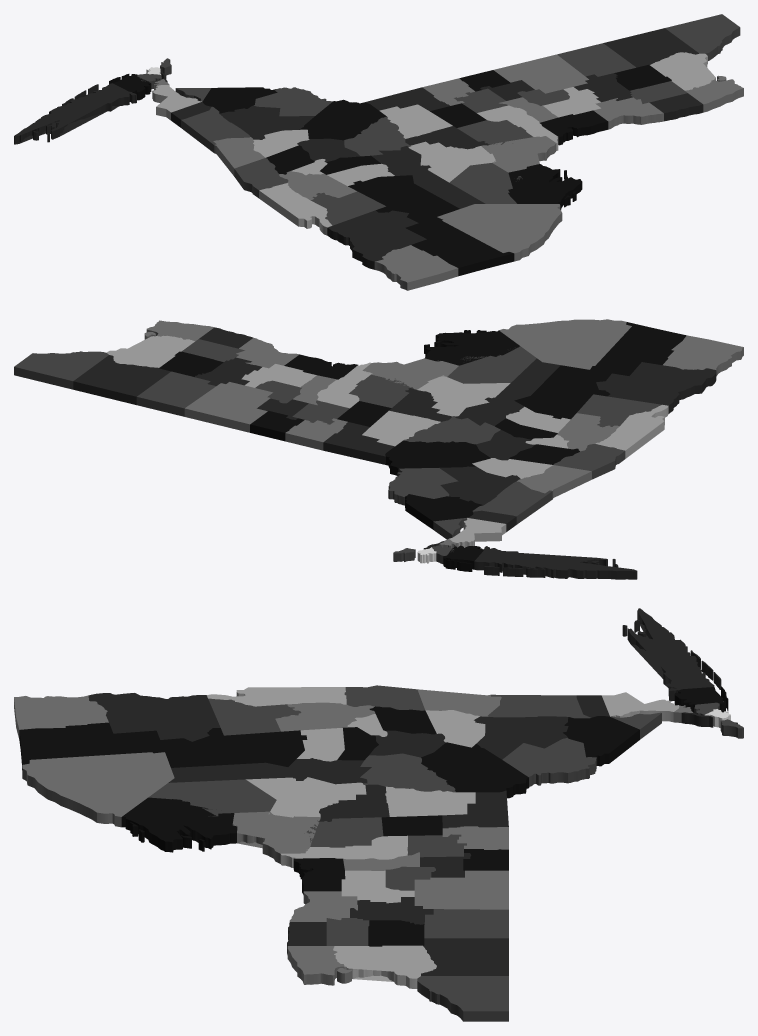
File: New_York_Counties_3D.fbx
3 views of the same model, one above another, from view 1: azimuth 30°, elevation 25°; view 2: azimuth 150°, elevation 25°; view 3: azimuth 270°, elevation 25° (orthographic). The views are drawn at different scales.
Parts seen in each view (by area): view 1: NY_St_Lawrence_County_3D, NY_Essex_County_3D, NY_Franklin_County_3D, NY_Suffolk_County_3D, NY_Hamilton_County_3D, NY_Clinton_County_3D, NY_Jefferson_County_3D, NY_Herkimer_County_3D, NY_Delaware_County_3D, NY_Steuben_County_3D, NY_Cattaraugus_County_3D, NY_Chautauqua_County_3D (+42 smaller); view 2: NY_St_Lawrence_County_3D, NY_Suffolk_County_3D, NY_Essex_County_3D, NY_Hamilton_County_3D, NY_Steuben_County_3D, NY_Franklin_County_3D, NY_Cattaraugus_County_3D, NY_Delaware_County_3D, NY_Jefferson_County_3D, NY_Herkimer_County_3D, NY_Chautauqua_County_3D, NY_Allegany_County_3D (+44 smaller); view 3: NY_St_Lawrence_County_3D, NY_Jefferson_County_3D, NY_Essex_County_3D, NY_Hamilton_County_3D, NY_Franklin_County_3D, NY_Suffolk_County_3D, NY_Delaware_County_3D, NY_Chautauqua_County_3D, NY_Herkimer_County_3D, NY_Steuben_County_3D, NY_Erie_County_3D, NY_Cattaraugus_County_3D (+42 smaller).
Boxes of the visible parts, <box> form: NY_St_Lawrence_County_3D: <box>437,204,562,261</box>; NY_Essex_County_3D: <box>327,210,426,269</box>; NY_Franklin_County_3D: <box>405,217,514,276</box>; NY_Suffolk_County_3D: <box>14,83,136,144</box>; NY_Hamilton_County_3D: <box>348,175,459,222</box>; NY_Clinton_County_3D: <box>374,245,458,290</box>; NY_Jefferson_County_3D: <box>508,164,582,209</box>; NY_Herkimer_County_3D: <box>371,146,485,208</box>; NY_Delaware_County_3D: <box>299,99,386,140</box>; NY_Steuben_County_3D: <box>493,54,588,93</box>; NY_Cattaraugus_County_3D: <box>603,28,698,67</box>; NY_Chautauqua_County_3D: <box>665,14,740,60</box>; NY_St_Lawrence_County_3D: <box>499,319,631,369</box>; NY_Suffolk_County_3D: <box>474,546,637,579</box>; NY_Essex_County_3D: <box>596,362,716,413</box>; NY_Hamilton_County_3D: <box>514,365,611,419</box>; NY_Steuben_County_3D: <box>184,382,272,432</box>; NY_Franklin_County_3D: <box>590,322,686,375</box>; NY_Cattaraugus_County_3D: <box>73,355,170,404</box>; NY_Delaware_County_3D: <box>385,440,490,475</box>; NY_Jefferson_County_3D: <box>424,330,519,365</box>; NY_Herkimer_County_3D: <box>455,358,560,425</box>; NY_Chautauqua_County_3D: <box>14,351,108,389</box>; NY_Allegany_County_3D: <box>136,371,215,416</box>; NY_St_Lawrence_County_3D: <box>22,752,174,827</box>; NY_Jefferson_County_3D: <box>121,797,237,852</box>; NY_Essex_County_3D: <box>88,693,220,741</box>; NY_Hamilton_County_3D: <box>160,728,307,767</box>; NY_Franklin_County_3D: <box>19,722,164,769</box>; NY_Suffolk_County_3D: <box>622,608,721,701</box>; NY_Delaware_County_3D: <box>421,742,528,798</box>; NY_Chautauqua_County_3D: <box>417,976,508,1021</box>; NY_Herkimer_County_3D: <box>168,758,371,784</box>; NY_Steuben_County_3D: <box>414,870,508,909</box>; NY_Erie_County_3D: <box>333,945,436,988</box>; NY_Cattaraugus_County_3D: <box>421,938,508,975</box>.
Size of the model in its own units: 837 by 10 by 640.
